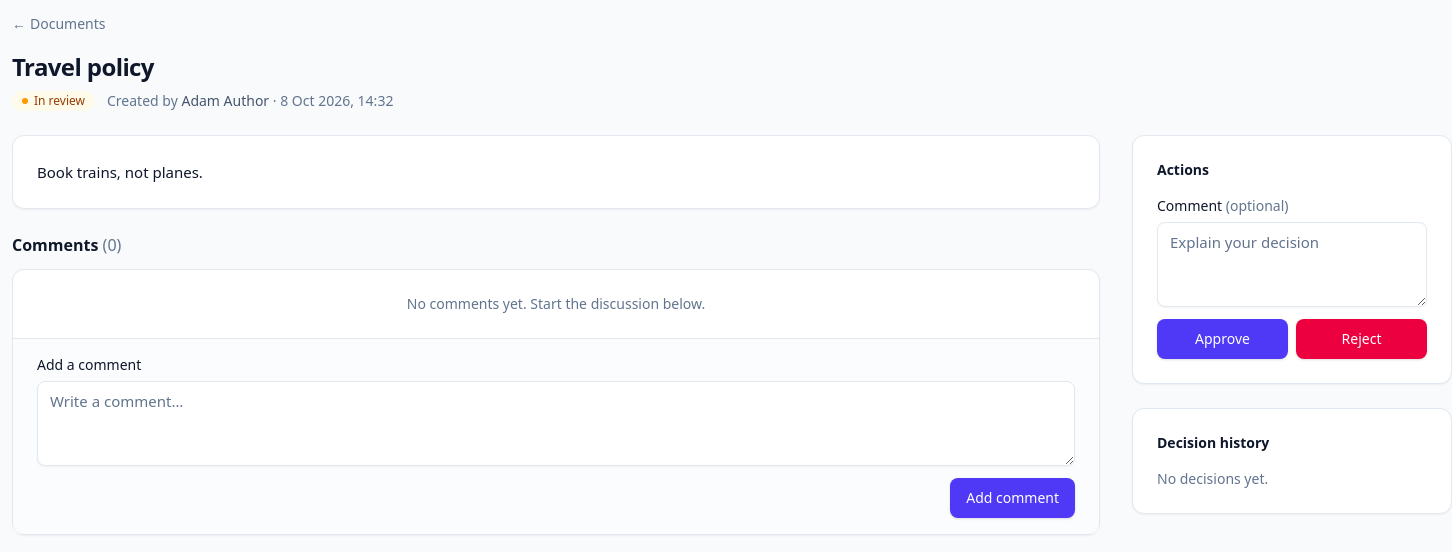
DocumentDetailPage actions › shows the conflict message and reloads the document when someone else decided first
The image size is (1452, 552).
Check: the heading "Travel policy" is shown, box top-left (12, 50), bottom-right (154, 82)
Click the button "Reject": (1362, 339) top-left (1296, 319), bottom-right (1427, 359)
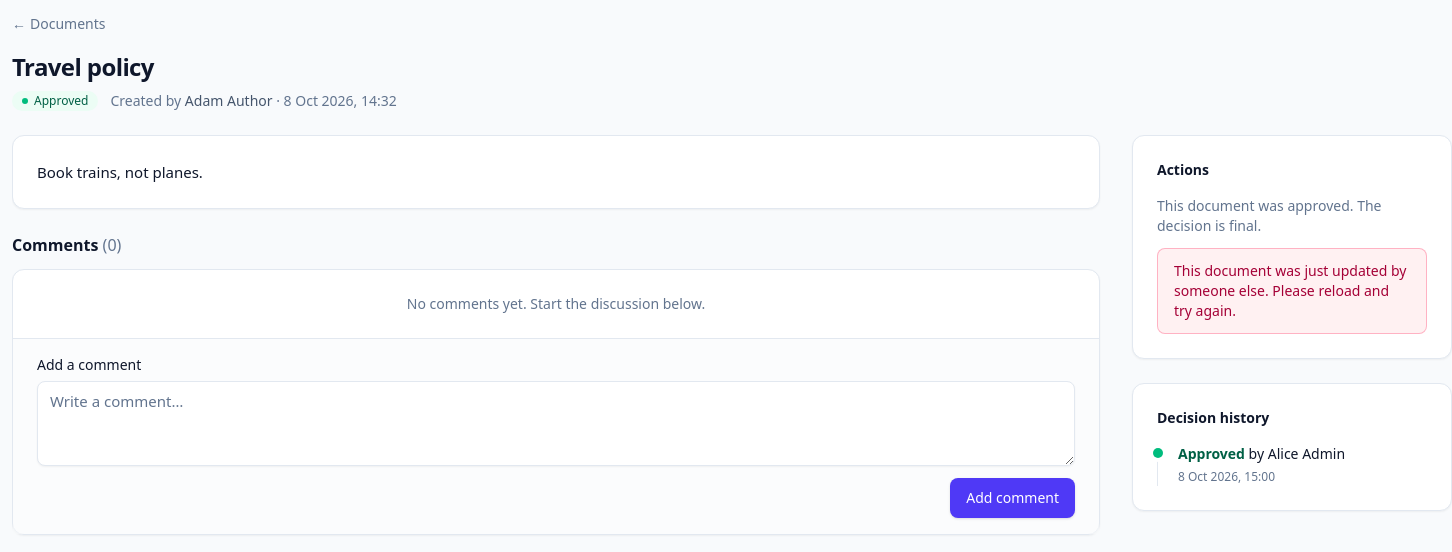
Check: the text "This document was just updated by someone else. Please reload and try again." is shown, box top-left (1174, 260), bottom-right (1410, 320)
Check: the text "This document was approved. The decision is final." is shown, box top-left (1157, 196), bottom-right (1382, 234)
Check: the text "Alice Admin" is shown, box top-left (1268, 444), bottom-right (1345, 462)
